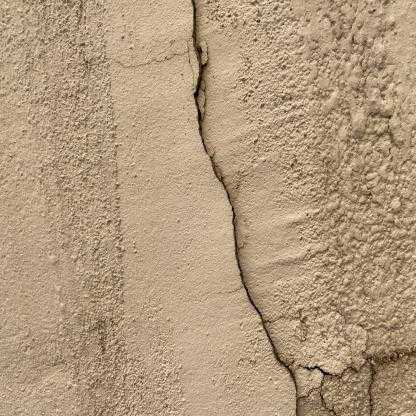crack: (190, 1, 298, 415)
